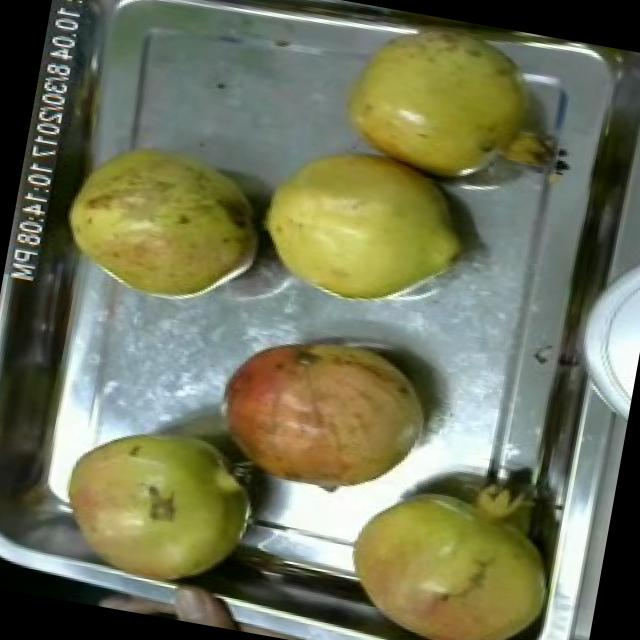fruit: (187, 312, 450, 516), (240, 124, 493, 331), (320, 0, 564, 202), (39, 404, 281, 606), (50, 123, 282, 321), (328, 464, 570, 640)
